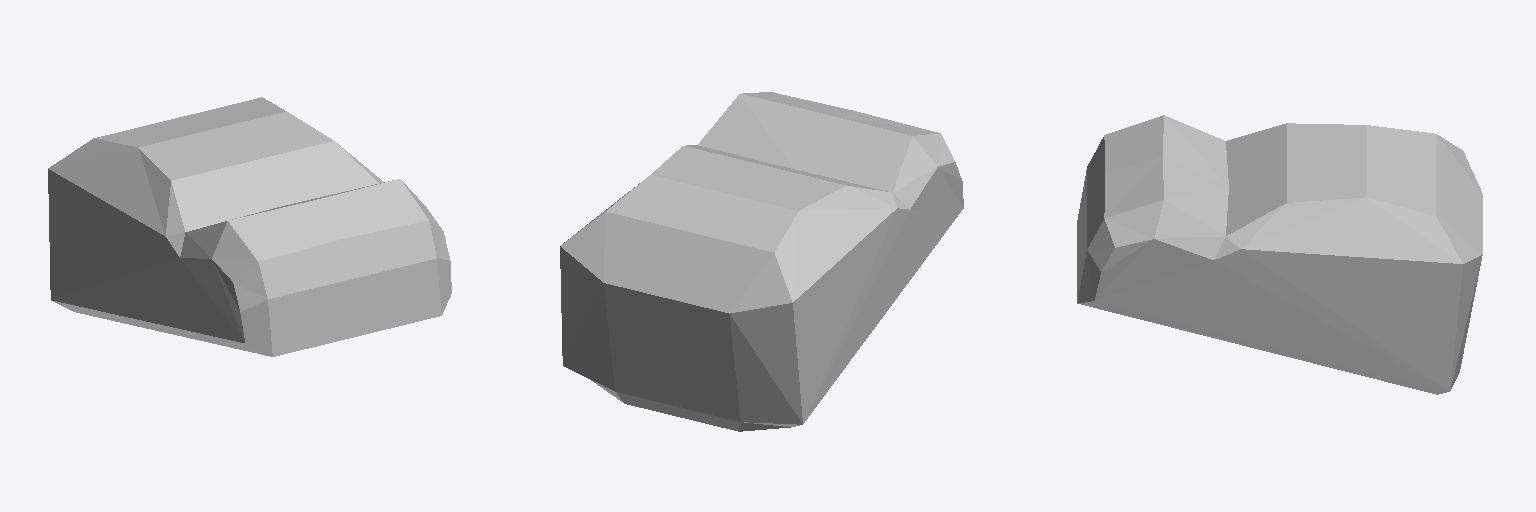
File: thumbj2_left.obj
3 renders of one model, left to right at view 1: azimuth 30°, elevation 25°; view 2: azimuth 150°, elevation 25°; view 3: azimuth 270°, elevation 25°, orthographic.
Parts seen in each view (by area): view 1: Cylinder_001; view 2: Cylinder_001; view 3: Cylinder_001.
Part boxes in pixels (x1,y1,x2,y2): Cylinder_001: (48,97,451,356); Cylinder_001: (560,92,963,431); Cylinder_001: (1077,115,1482,394).
Size of the model in its own units: 0.0256 by 0.0201 by 0.0374.